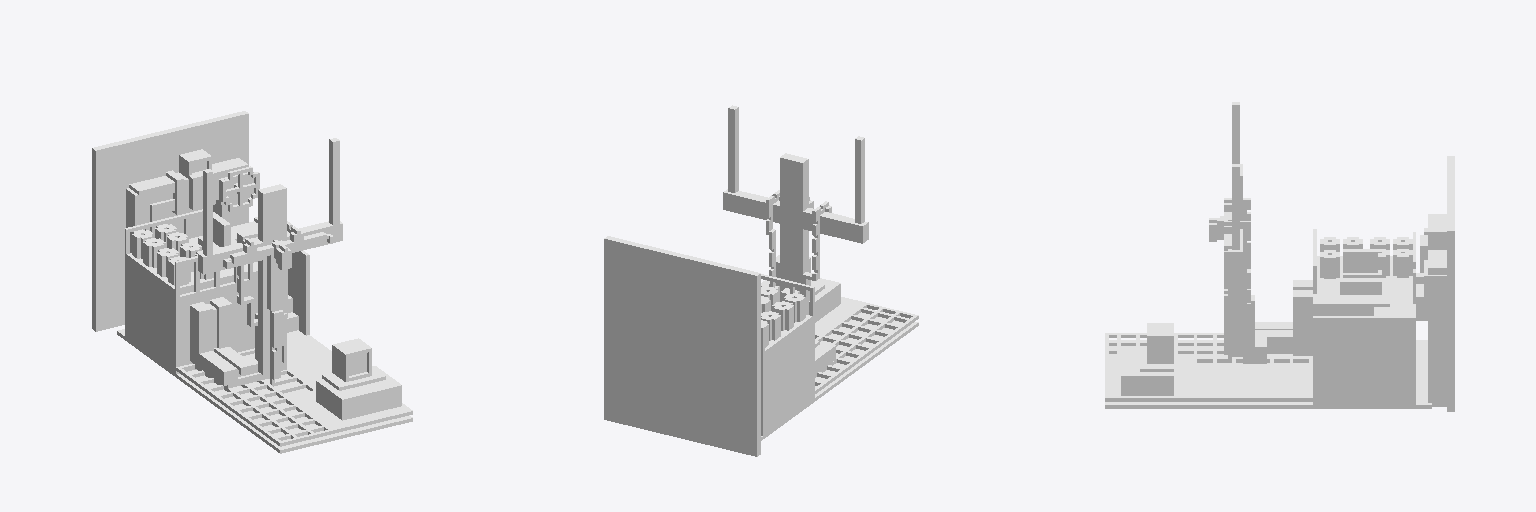
File: game13role1.obj
3 renders of one model, left to right at view 1: azimuth 30°, elevation 25°; view 2: azimuth 150°, elevation 25°; view 3: azimuth 270°, elevation 25°, orthographic.
Parts seen in each view (by area): view 1: game13role1; view 2: game13role1; view 3: game13role1.
Boxes of the visible parts, x1=… form: game13role1: x1=92, y1=111, x2=412, y2=453; game13role1: x1=604, y1=105, x2=918, y2=456; game13role1: x1=1105, y1=102, x2=1454, y2=411.
Bounding box in the file's own units: 46 × 68 × 91.